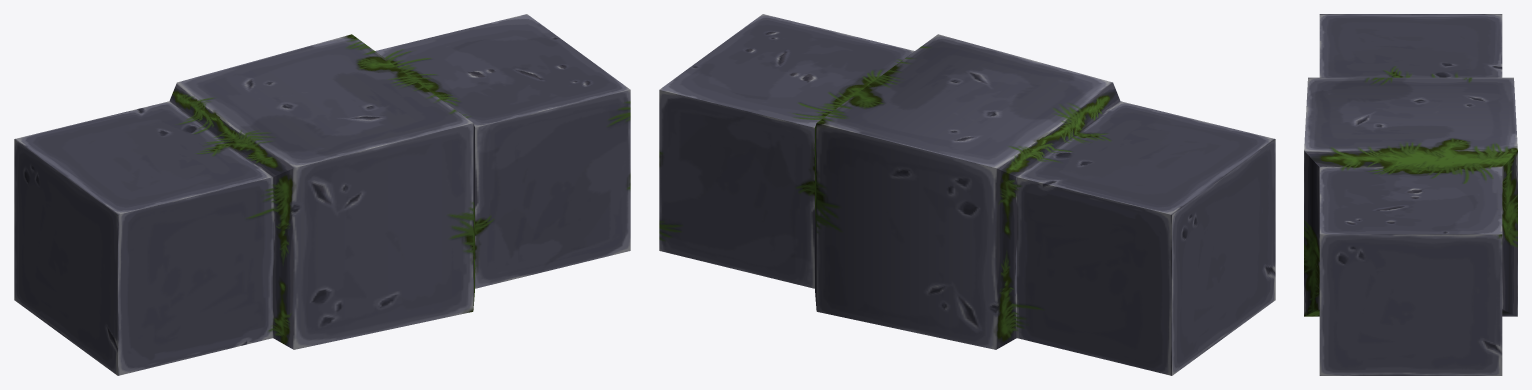
The model's file is MOD_WallCover_01_M_straight_half_R.fbx.
3 renders of one model, left to right at view 1: azimuth 30°, elevation 25°; view 2: azimuth 150°, elevation 25°; view 3: azimuth 270°, elevation 25°, orthographic. The views are drawn at different scales.
Parts seen in each view (by area): view 1: MOD_WallCover_01_M_straight_half_R; view 2: MOD_WallCover_01_M_straight_half_R; view 3: MOD_WallCover_01_M_straight_half_R.
Part boxes in pixels (x1,y1,x2,y2): MOD_WallCover_01_M_straight_half_R: [14, 14, 630, 375]; MOD_WallCover_01_M_straight_half_R: [659, 14, 1275, 375]; MOD_WallCover_01_M_straight_half_R: [1304, 14, 1517, 375].
Size of the model in its own units: 200 by 70.3 by 82.02.
